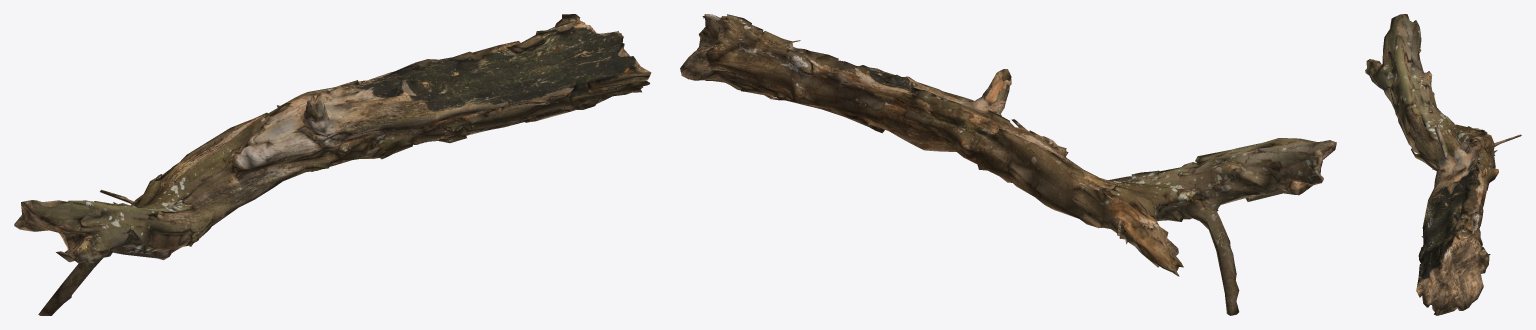
File: driftwood.glb
The picture shows the model from 3 angles, left to right: view 1: azimuth 30°, elevation 25°; view 2: azimuth 150°, elevation 25°; view 3: azimuth 270°, elevation 25°; orthographic projection. The views are drawn at different scales.
Visible parts, largest first — view 1: dead_tree_trunk_02; view 2: dead_tree_trunk_02; view 3: dead_tree_trunk_02.
Boxes of the visible parts, x1,y1,x2,y2 form: dead_tree_trunk_02: (14, 14, 651, 315); dead_tree_trunk_02: (680, 14, 1336, 315); dead_tree_trunk_02: (1365, 14, 1521, 315).
Size of the model in its own units: 4.05 by 1.05 by 1.05.
Materials: 1 (1 with a texture image).
